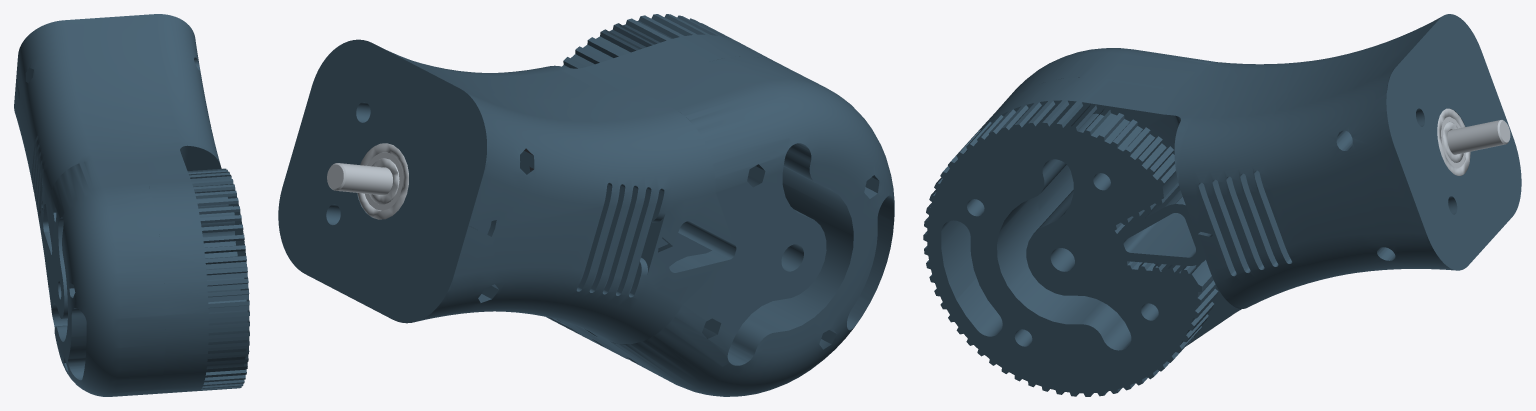
Rendered from forearm_LOD0.fbx.
3 views of the same model, side by side, from view 1: azimuth 30°, elevation 25°; view 2: azimuth 150°, elevation 25°; view 3: azimuth 270°, elevation 25° (orthographic). The views are drawn at different scales.
Visible parts, largest first — view 1: MM_moveo_3m2c_b6db0b8c40, MM_moveo_3m2cc_b6f65144bf; view 2: MM_moveo_3m2c_b6db0b8c40, MM_moveo_3m2cc_b6f65144bf, MM_moveo_8mm_bearing_515833fd05, MM_moveo_smooth_bar_8mm_x_50mm_5c63b88db9; view 3: MM_moveo_3m2cc_b6f65144bf, MM_moveo_3m2c_b6db0b8c40, MM_moveo_smooth_bar_8mm_x_50mm_5c63b88db9, MM_moveo_8mm_bearing_515833fd05.
Boxes of the visible parts, box(x1,y1,x2,y2) form: MM_moveo_3m2c_b6db0b8c40: box(14, 17, 165, 396); MM_moveo_3m2cc_b6f65144bf: box(109, 14, 249, 393); MM_moveo_3m2c_b6db0b8c40: box(349, 56, 894, 396); MM_moveo_3m2cc_b6f65144bf: box(278, 14, 776, 359); MM_moveo_8mm_bearing_515833fd05: box(357, 143, 408, 219); MM_moveo_smooth_bar_8mm_x_50mm_5c63b88db9: box(327, 163, 392, 195); MM_moveo_3m2cc_b6f65144bf: box(923, 43, 1490, 396); MM_moveo_3m2c_b6db0b8c40: box(974, 14, 1521, 240); MM_moveo_smooth_bar_8mm_x_50mm_5c63b88db9: box(1447, 120, 1510, 154); MM_moveo_8mm_bearing_515833fd05: box(1437, 108, 1470, 175).
Size of the model in its own units: 0.1282 by 0.1254 by 0.1904.
